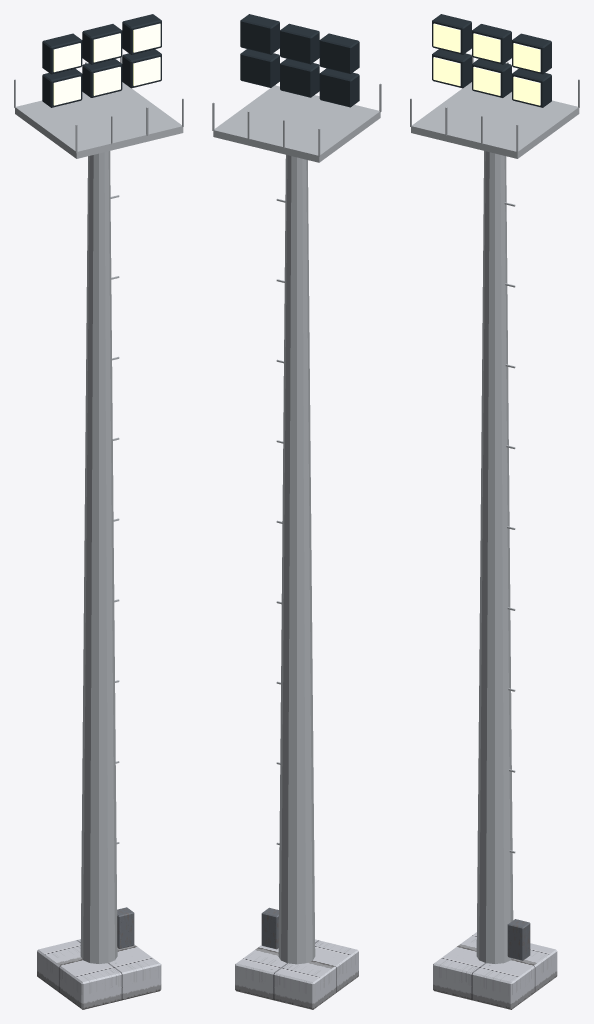
File: light_tower.glb
3 renders of one model, left to right at view 1: azimuth 30°, elevation 25°; view 2: azimuth 150°, elevation 25°; view 3: azimuth 330°, elevation 25°, orthographic.
Parts seen in each view (by area): view 1: harbor_light_tower; view 2: harbor_light_tower; view 3: harbor_light_tower.
Part boxes in pixels (bbox=[...]): harbor_light_tower: bbox=[14, 14, 183, 1009]; harbor_light_tower: bbox=[212, 14, 381, 1009]; harbor_light_tower: bbox=[410, 14, 579, 1009].
Bounding box in the file's own units: 4.2 × 34.3 × 4.05.
5 materials, 2 textured.
